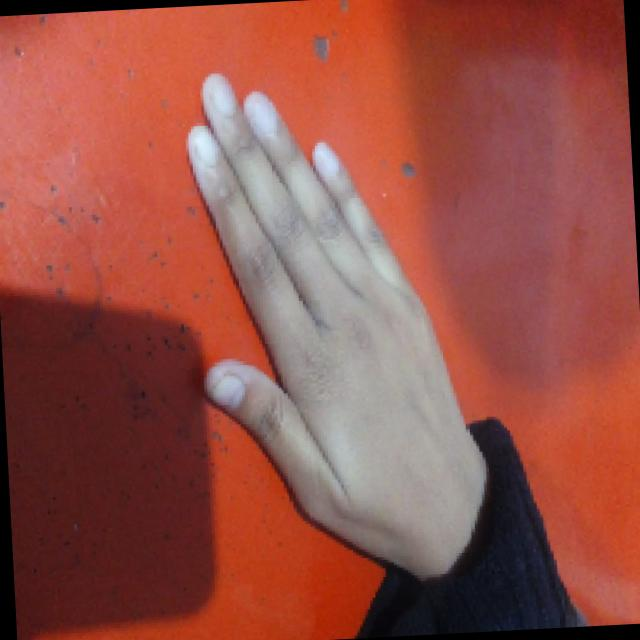Nail: (243, 94, 277, 133), (205, 75, 236, 116), (210, 374, 245, 409), (189, 126, 218, 166), (313, 142, 338, 179)
